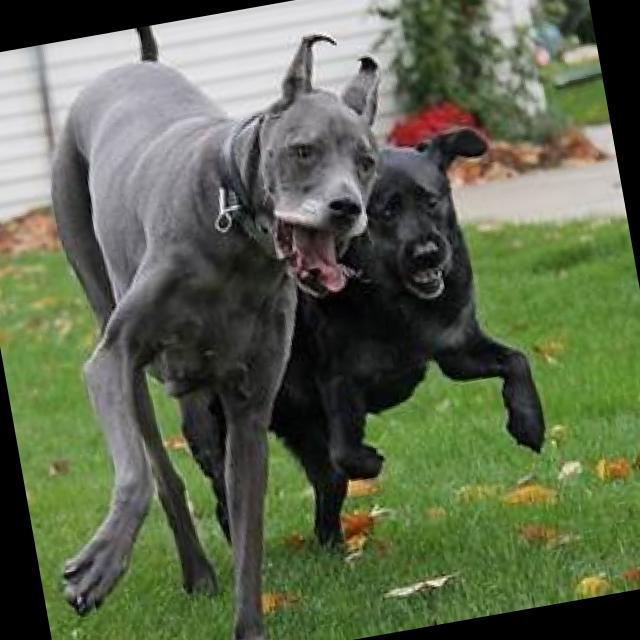dog: (0, 0, 478, 640), (137, 116, 564, 574)
